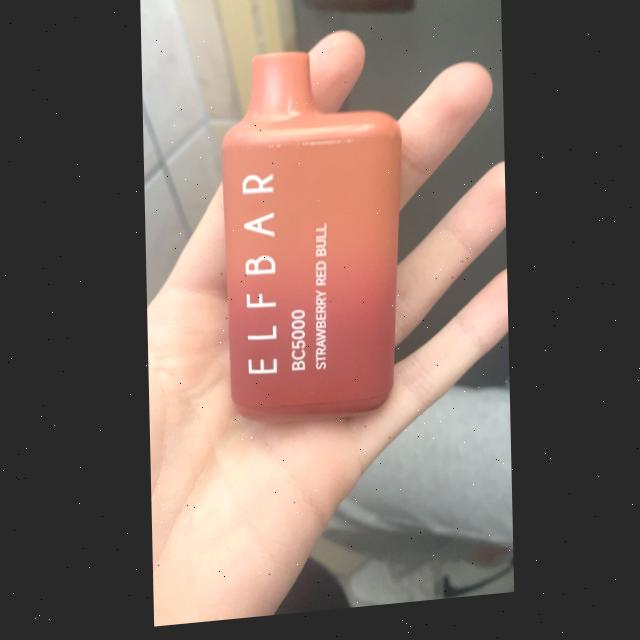vape: (217, 48, 408, 436)
